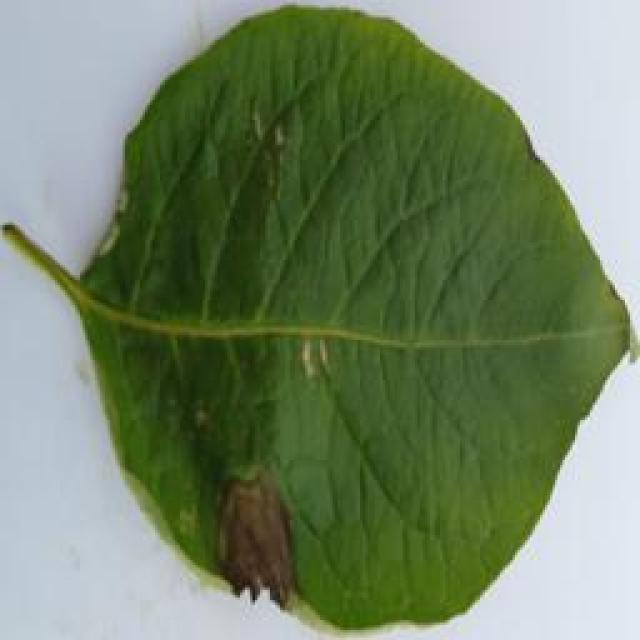Potato_Late_Blight: (5, 11, 623, 626)
